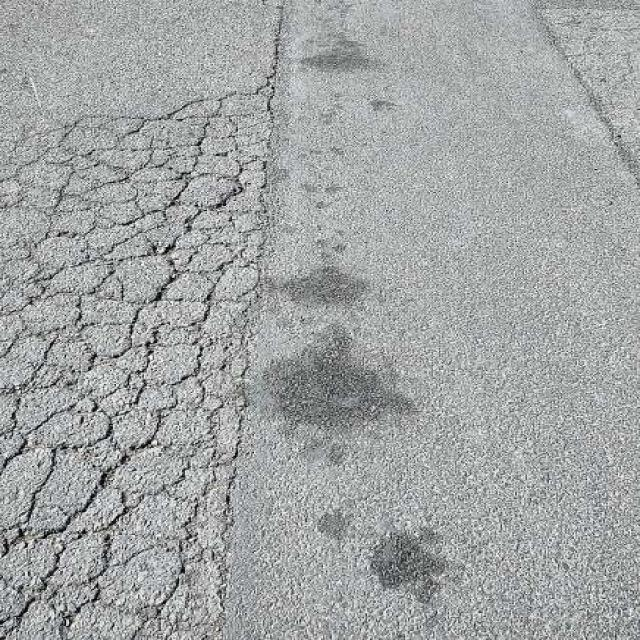Drain Hole: (12, 68, 311, 631)
